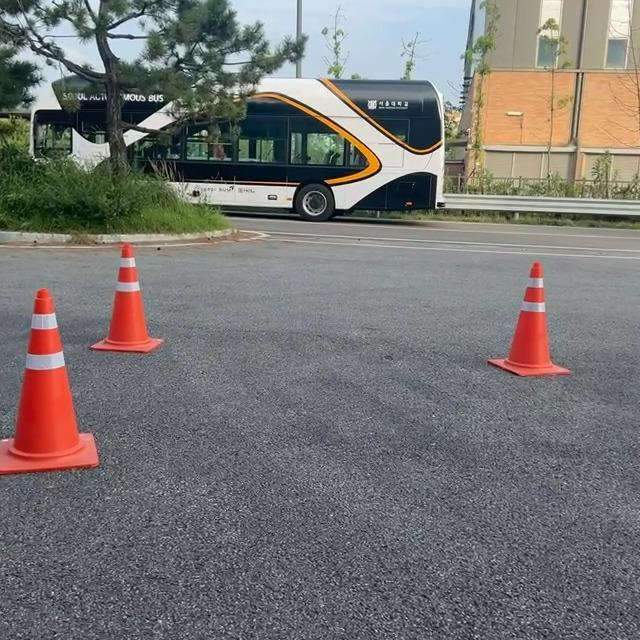fallen_object: (453, 252, 593, 428), (56, 237, 188, 409), (7, 283, 117, 486)
